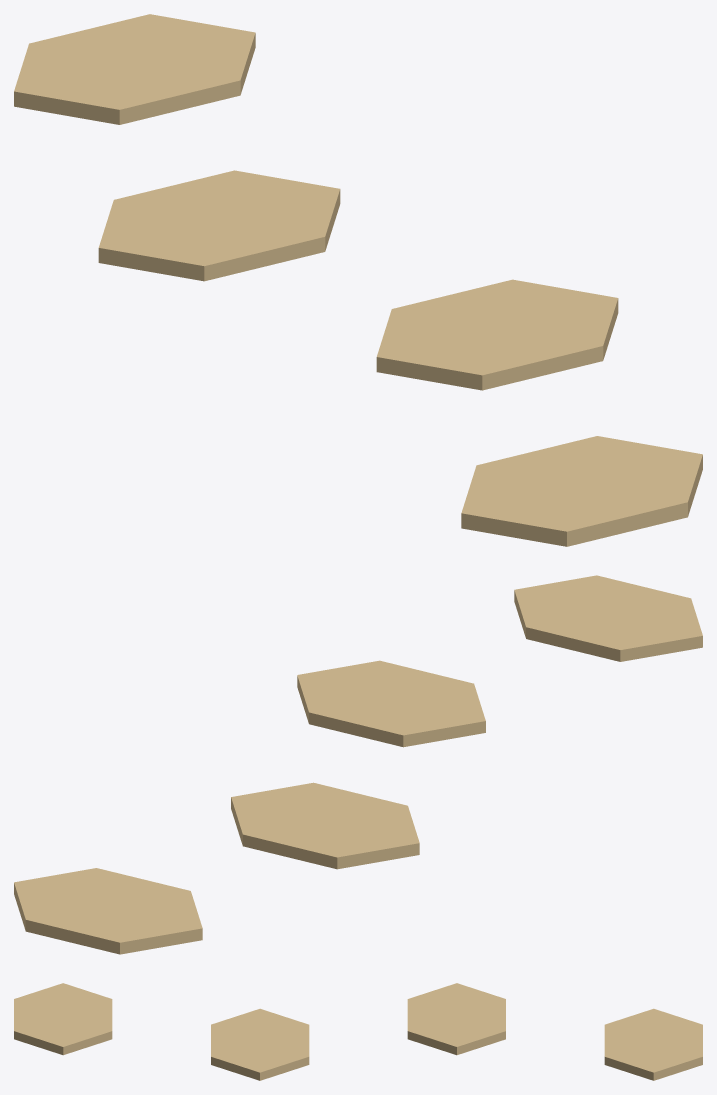
The picture shows the model from 3 angles, top to bottom: view 1: azimuth 30°, elevation 25°; view 2: azimuth 150°, elevation 25°; view 3: azimuth 270°, elevation 25°; orthographic projection. The views are drawn at different scales.
Visible parts, largest first — view 1: 独立踏步石纸片.001; view 2: 独立踏步石纸片.001; view 3: 独立踏步石纸片.001.
Part boxes in pixels (x1,y1,x2,y2): 独立踏步石纸片.001: [14, 14, 702, 546]; 独立踏步石纸片.001: [14, 575, 702, 954]; 独立踏步石纸片.001: [14, 983, 702, 1080].
Size of the model in its own units: 0.28 by 0.012 by 0.9099.
